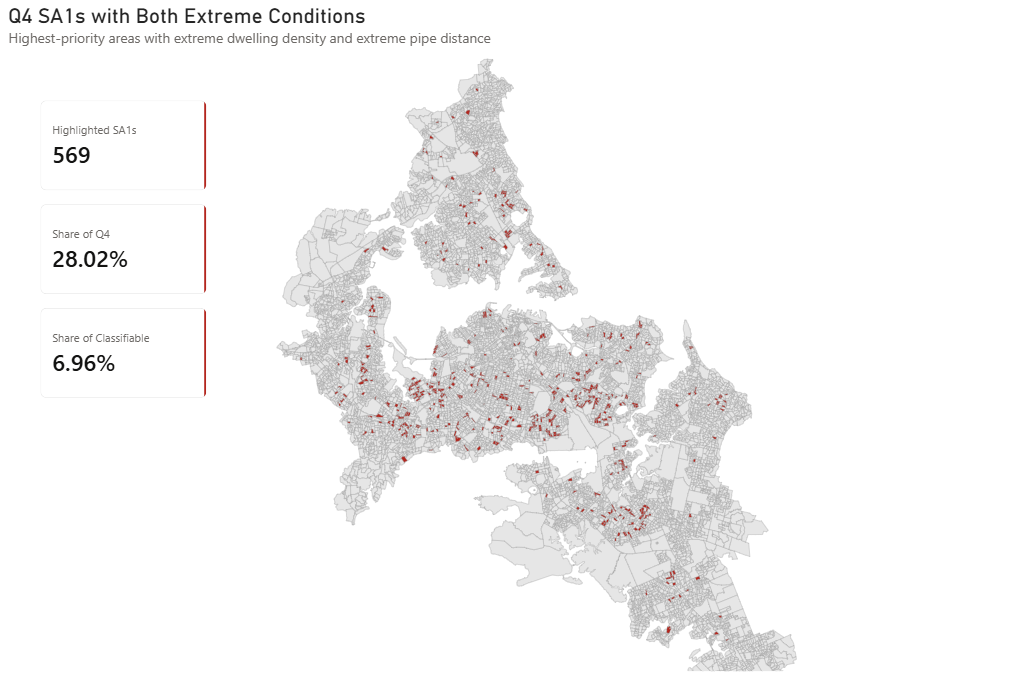

The page's visual inventory and layout, read from the dashboard file:
{"tool":"powerbi","page":{"name":"Page 4","canvas":[1920,1080],"ordinal":3},"visuals":[{"type":"shapeMap","title":"Q4 SA1s with Both Extreme Conditions","fields":{"Category":["MART_SA1_ACCESSIBILITY_QUADRANTS.SA1_ID"]},"box":[180,50,1500,1000],"z":0},{"type":"cardVisual","fields":{"Data":["MART_SA1_ACCESSIBILITY_QUADRANTS.Q4 Both Extremes SA1s"]},"box":[242.5,206.3,240,130],"z":1000},{"type":"cardVisual","fields":{"Data":["MART_SA1_ACCESSIBILITY_QUADRANTS.Q4 Both Extremes Share"]},"box":[242.5,356.5,240,130],"z":2000},{"type":"cardVisual","fields":{"Data":["MART_SA1_ACCESSIBILITY_QUADRANTS.Q4 Both Extremes Classifiable Share"]},"box":[242.5,506.7,240,130],"z":3000}]}

Visuals, with their boxes on the page's 1920x1080 design canvas (x1, y1, x2, y2). These are canvas units, not pixel positions in the 1027x673 screenshot, which may show the page scaled, cropped or inside an application window:
"Q4 SA1s with Both Extreme Conditions" shapeMap: x1=180 y1=50 x2=1680 y2=1050
cardVisual - MART_SA1_ACCESSIBILITY_QUADRANTS.Q4 Both Extremes SA1s: x1=242 y1=206 x2=482 y2=336
cardVisual - MART_SA1_ACCESSIBILITY_QUADRANTS.Q4 Both Extremes Share: x1=242 y1=356 x2=482 y2=486
cardVisual - MART_SA1_ACCESSIBILITY_QUADRANTS.Q4 Both Extremes Classifiable Share: x1=242 y1=507 x2=482 y2=637
